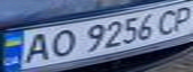2: (103, 18, 127, 50)
5: (121, 15, 142, 45)
6: (136, 11, 160, 42)
9: (81, 21, 109, 53)
A: (15, 30, 54, 64)
C: (151, 7, 184, 36)
O: (42, 27, 78, 60)
P: (169, 3, 193, 34)
